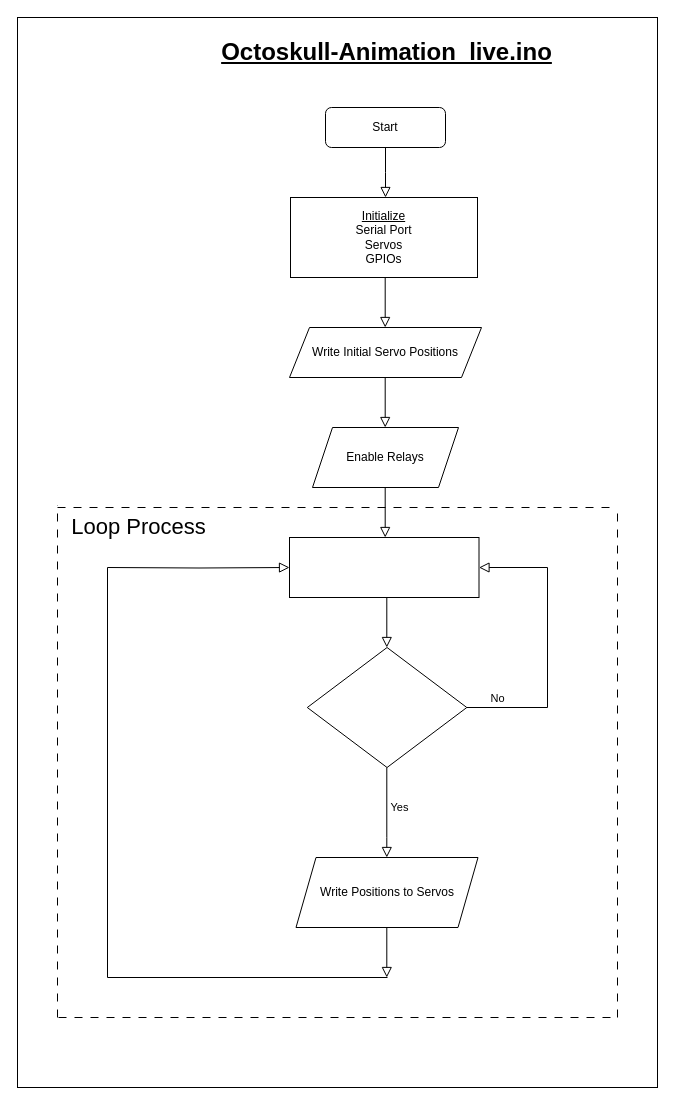
Some shapes in this 675 by 1105 pixel diagram are drawn without their labels. The centre of each missing label's shape, as x and y in pixels:
"Read Serial Port (Serial Data coming from Blender)" goes at point (383, 567).
"Valid Data ?" goes at point (386, 707).
